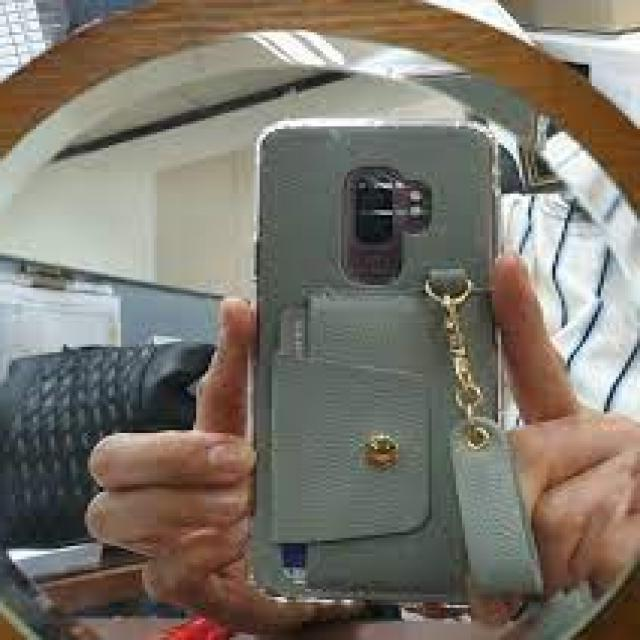mobile: (249, 117, 499, 599)
